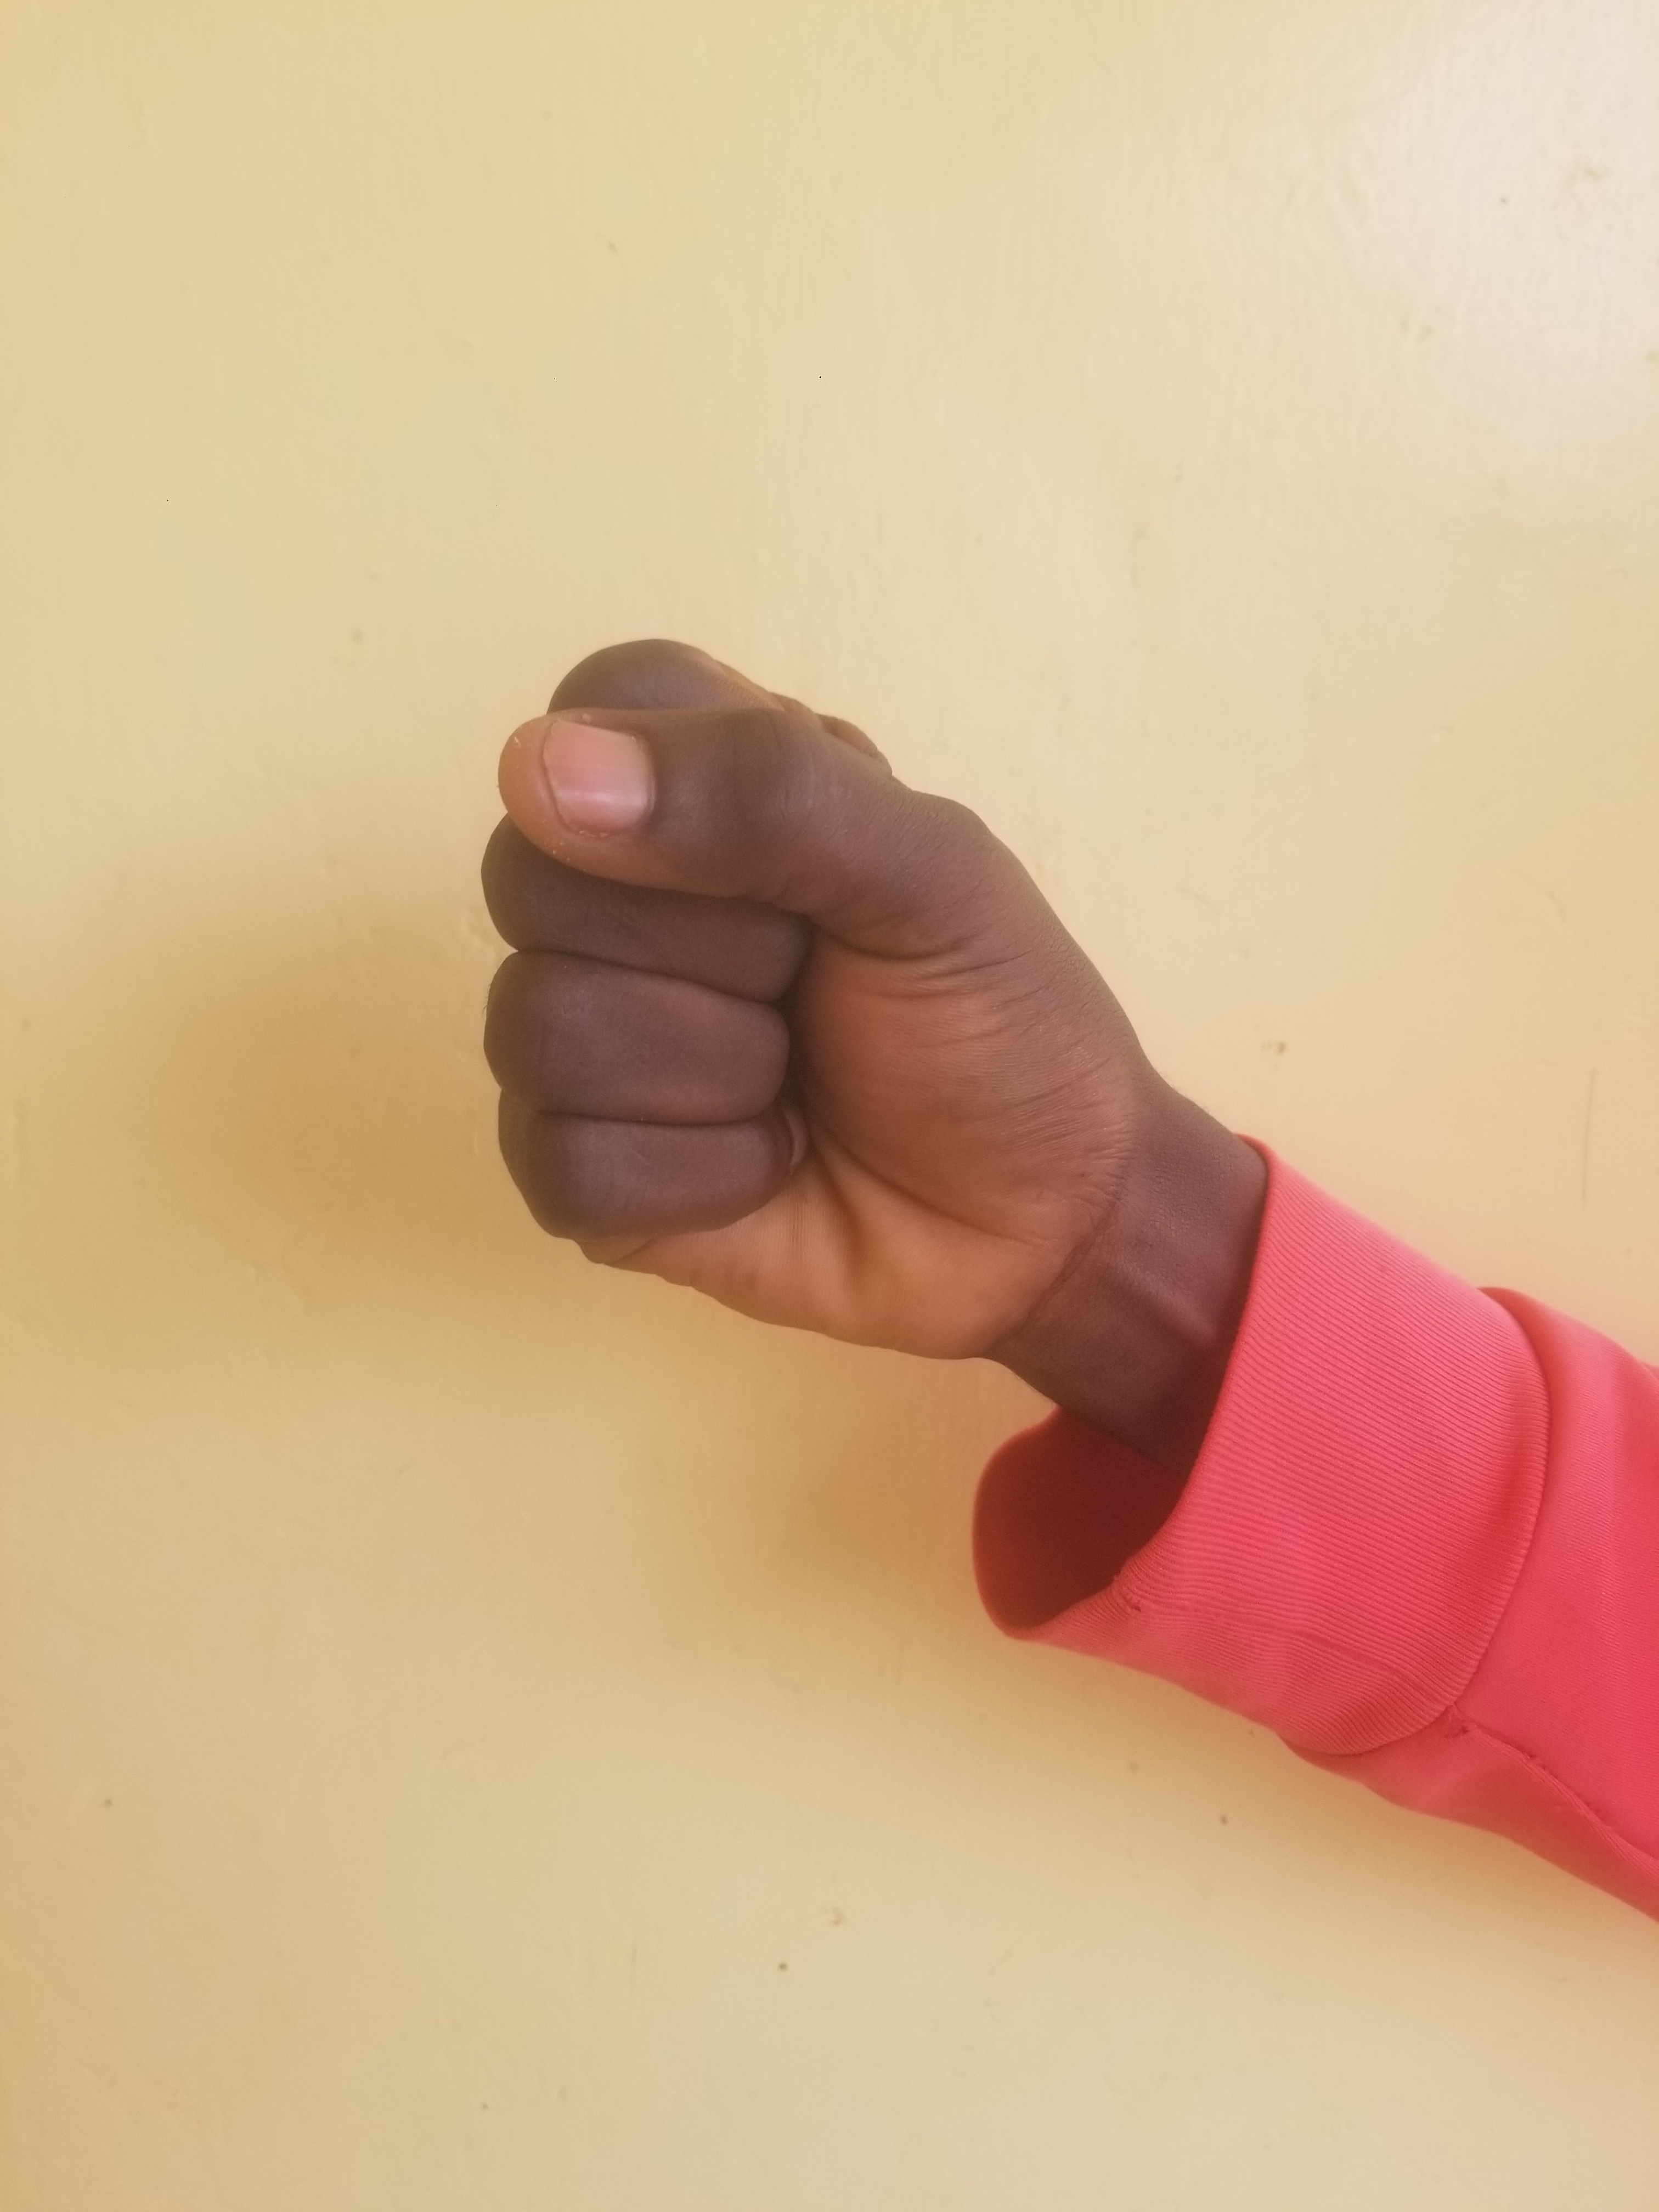fist: (469, 578, 1230, 1378)
